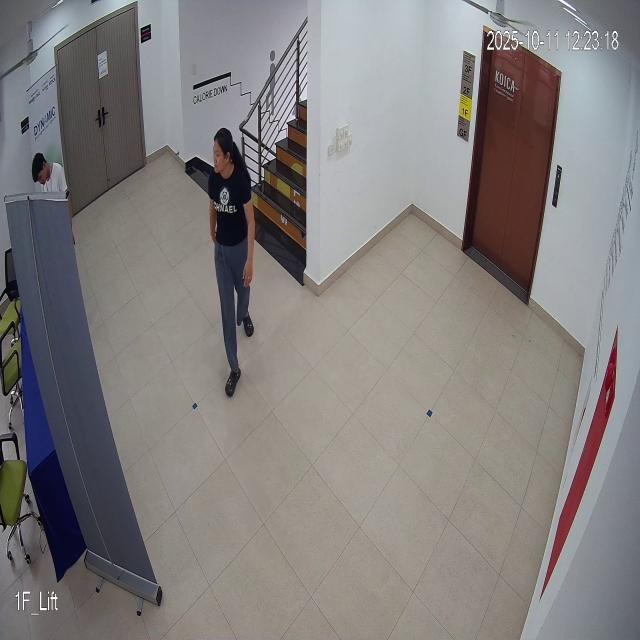face: (212, 121, 242, 192)
